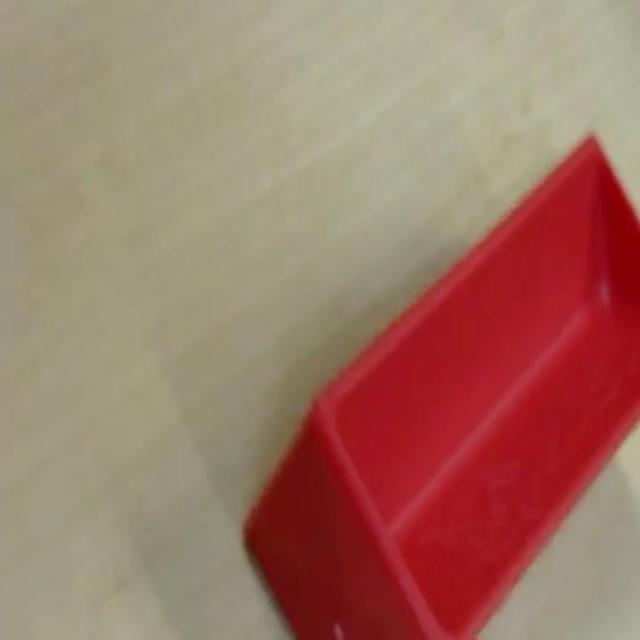red_block: (241, 131, 638, 637)
